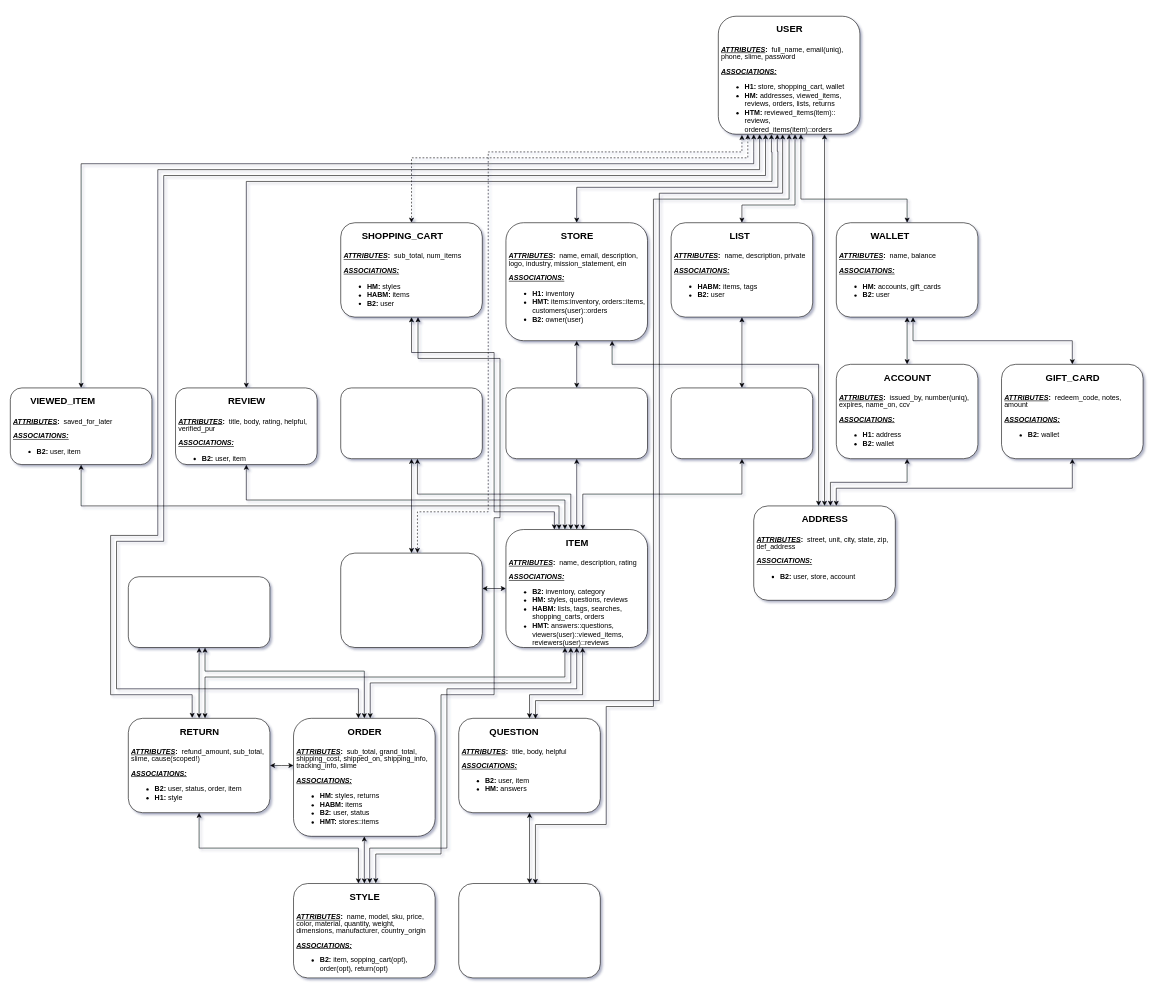
This 1157x992 diagram has some shape labels left out. The centre of each missing label's shape, as x and y in pixels:
"ANSWER ATTRIBUTES : body, helpful ASSOCIATIONS: B2: user, item HM: answers" goes at point (529, 930).
"CATEGORY ATTRIBUTES : name(seeded) ASSOCIATIONS: HM: items, searches" goes at point (411, 423).
"INVENTORY ASSOCIATIONS: HM: items B2: store" goes at point (576, 423).
"SEARCH ATTRIBUTES : query ASSOCIATIONS: HM: items B2: user(opt), category" goes at point (411, 600).
"STATUS ATTRIBUTES : name(seeded) ASSOCIATIONS: HM: orders, returns" goes at point (199, 612).
"TAGS ATTRIBUTES : name ASSOCIATIONS: HABM: items, lists" goes at point (742, 423).
